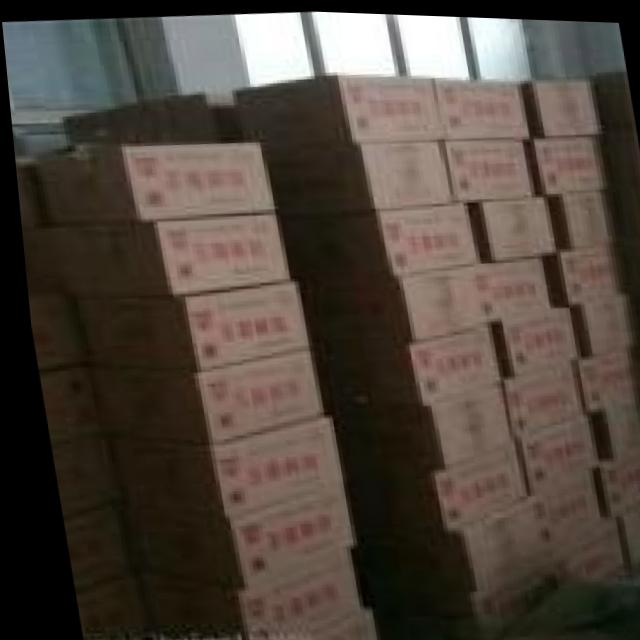box: (102, 409, 337, 516), (84, 346, 315, 441), (48, 209, 284, 297), (71, 279, 302, 368), (34, 140, 271, 222), (218, 485, 342, 588), (229, 546, 347, 640), (425, 437, 517, 524), (332, 72, 446, 142), (402, 318, 496, 402), (371, 199, 475, 272), (418, 376, 505, 460), (354, 135, 451, 206), (392, 263, 480, 338), (512, 407, 590, 489), (496, 358, 578, 434), (433, 74, 530, 135), (442, 135, 532, 199), (525, 466, 594, 544), (495, 303, 574, 369), (468, 254, 548, 318), (478, 193, 551, 256), (531, 132, 600, 190), (259, 604, 366, 640), (571, 344, 631, 407), (555, 242, 619, 300), (534, 77, 596, 131), (578, 289, 627, 352), (590, 452, 640, 512), (558, 187, 608, 244), (597, 397, 640, 456), (608, 496, 640, 561)
